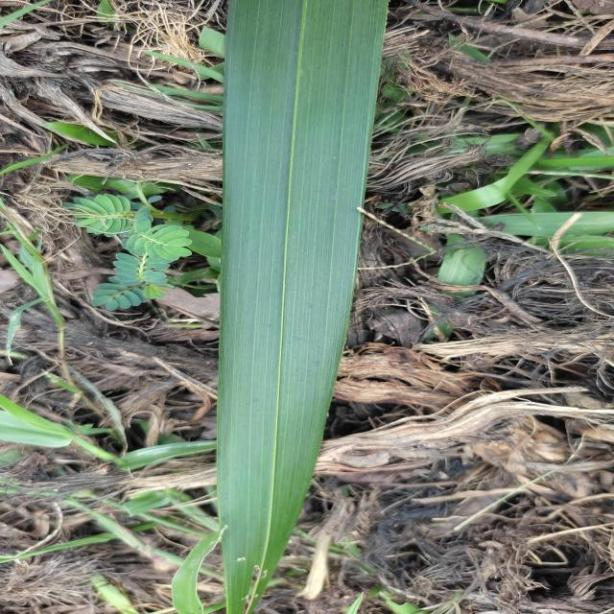Boron: (224, 0, 390, 614)
